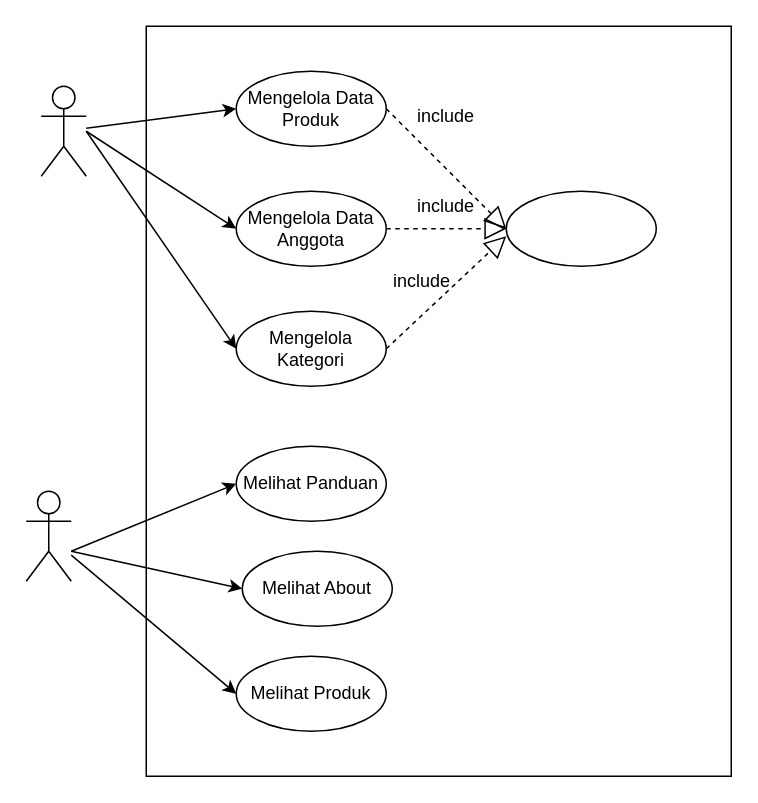
Some shapes in this 758 by 803 pixel diagram are drawn without their labels. Each missing label, with the box of its shape:
Admin: (40, 85, 86, 176)
Login: (505, 190, 656, 266)
User: (25, 490, 71, 581)
